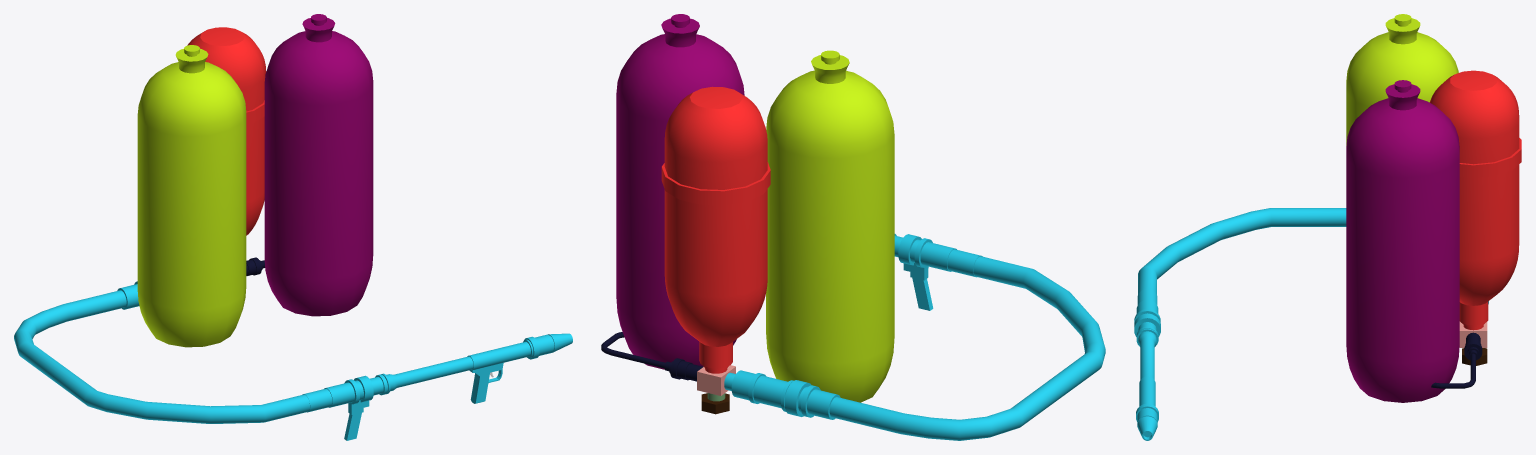
Rendered from flamethrower v3.FBX.
The picture shows the model from 3 angles, left to right: view 1: azimuth 30°, elevation 25°; view 2: azimuth 150°, elevation 25°; view 3: azimuth 270°, elevation 25°; orthographic projection. The views are drawn at different scales.
Parts seen in each view (by area): view 1: Cylinder004, Cylinder001, Cylinder008, Cylinder003; view 2: Cylinder004, Cylinder003, Cylinder001, Cylinder008, Cylinder005, Box001; view 3: Cylinder001, Cylinder003, Cylinder008, Cylinder004, Cylinder005, Box001.
Boxes of the visible parts, x1,y1,x2,y2 form: Cylinder004: (137,45,246,347); Cylinder001: (264,14,373,316); Cylinder008: (14,281,572,440); Cylinder003: (187,27,266,235); Cylinder004: (766,50,894,402); Cylinder003: (661,86,770,373); Cylinder001: (616,14,744,369); Cylinder008: (724,234,1105,440); Cylinder005: (601,332,703,381); Box001: (697,365,735,395); Cylinder001: (1346,80,1459,402); Cylinder003: (1429,70,1521,330); Cylinder008: (1134,208,1488,440); Cylinder004: (1346,14,1458,145); Cylinder005: (1431,332,1482,388); Box001: (1459,321,1487,347).
Size of the model in its own units: 66.35 by 46.32 by 48.84.
